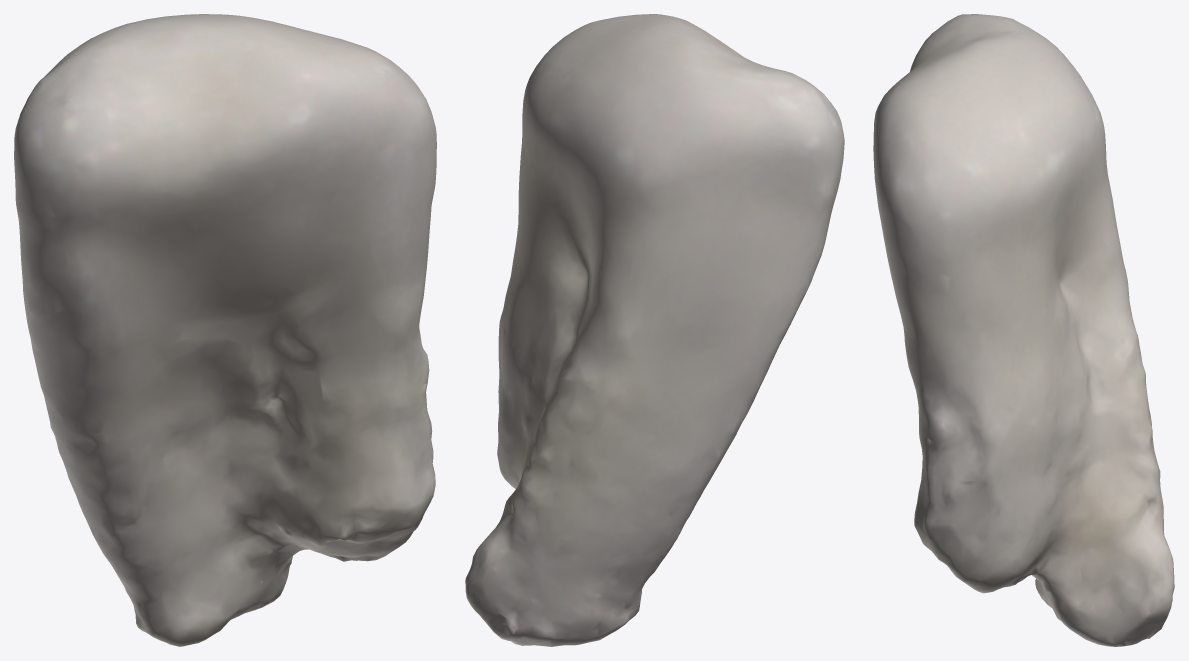
3 views of the same model, side by side, from view 1: azimuth 30°, elevation 25°; view 2: azimuth 150°, elevation 25°; view 3: azimuth 270°, elevation 25° (orthographic). The views are drawn at different scales.
Visible parts, largest first — view 1: M1_li_oben_Katze.001; view 2: M1_li_oben_Katze.001; view 3: M1_li_oben_Katze.001.
Part boxes in pixels (bbox=[...]): M1_li_oben_Katze.001: bbox=[14, 14, 436, 646]; M1_li_oben_Katze.001: bbox=[465, 14, 844, 646]; M1_li_oben_Katze.001: bbox=[873, 14, 1174, 646].
Size of the model in its own units: 286 by 470 by 230.
Materials: 1 (1 with a texture image).
